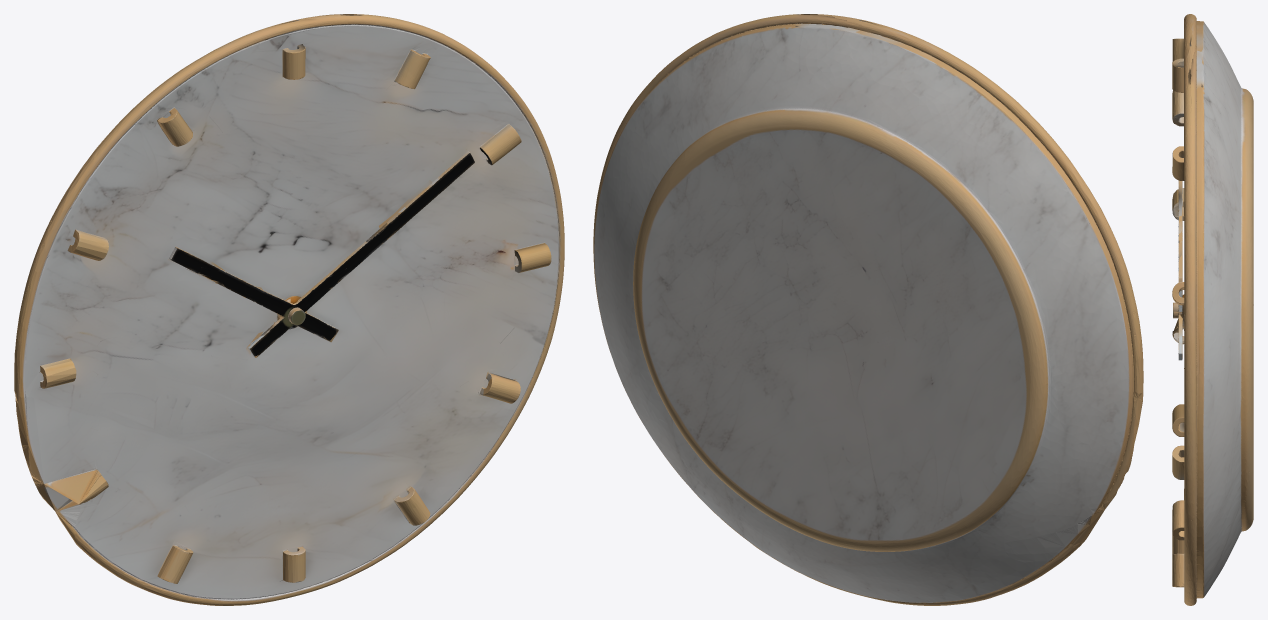
3 renders of one model, left to right at view 1: azimuth 30°, elevation 25°; view 2: azimuth 150°, elevation 25°; view 3: azimuth 270°, elevation 25°, orthographic. The views are drawn at different scales.
Parts seen in each view (by area): view 1: texture_pbr_v128; view 2: texture_pbr_v128; view 3: texture_pbr_v128.
Boxes of the visible parts, bbox=[...] form: texture_pbr_v128: bbox=[14, 14, 564, 605]; texture_pbr_v128: bbox=[593, 14, 1143, 605]; texture_pbr_v128: bbox=[1172, 14, 1253, 605].
Size of the model in its own units: 1.19 by 1.19 by 0.1644.
1 material, 1 textured.
